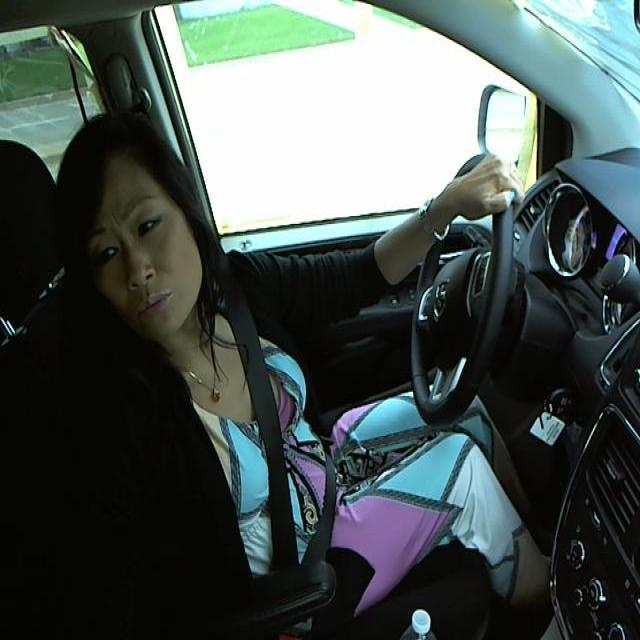seatbelt: (225, 312, 308, 563)
